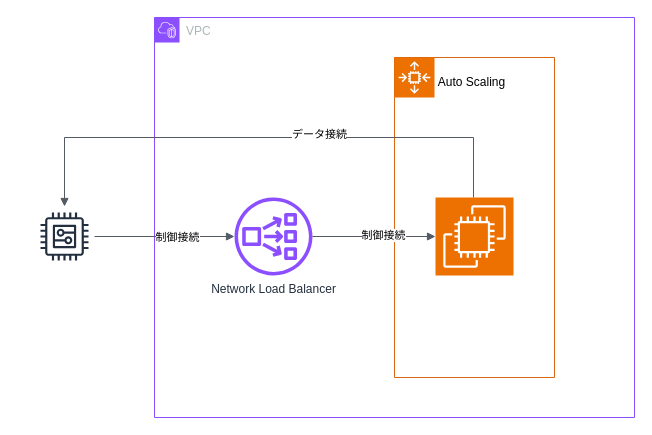
This 652x435 diagram has some shape labels left out. Here are the shapes that lost their labels. From the top down, the centre of each, then its label:
the point at 64,236: FTPクライアント
the point at 474,236: FTPサーバ(EC2)
